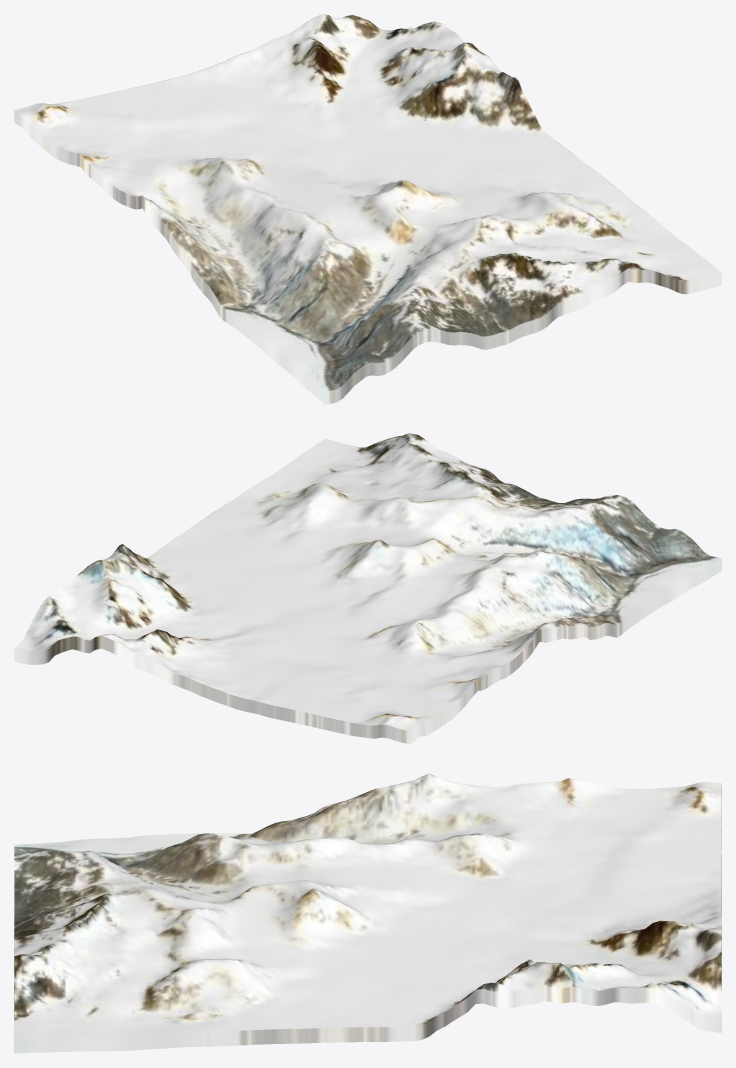
3 views of the same model, one above another, from view 1: azimuth 30°, elevation 25°; view 2: azimuth 150°, elevation 25°; view 3: azimuth 270°, elevation 25° (orthographic). The views are drawn at different scales.
Visible parts, largest first — view 1: tile; view 2: tile; view 3: tile.
Boxes of the visible parts, x1,y1,x2,y2 form: tile: (14,14,721,404); tile: (14,433,721,744); tile: (14,773,721,1053).
Size of the model in its own units: 8100 by 1843 by 11010.
1 material, 1 textured.
